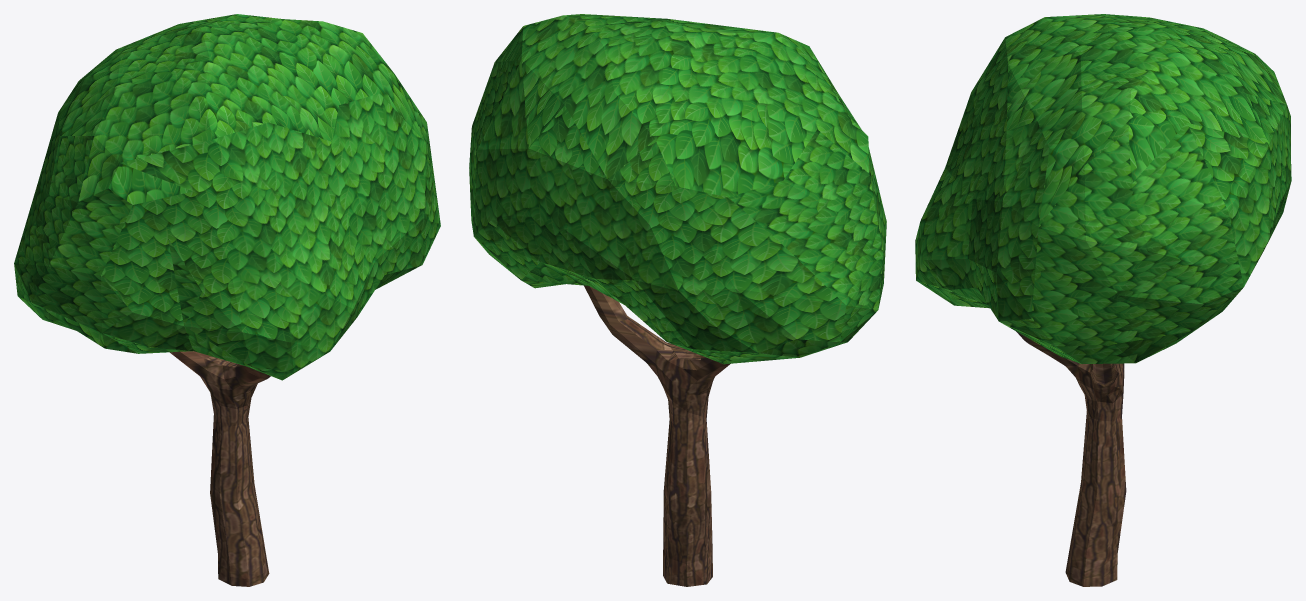
The model's file is Tree.FBX.
3 views of the same model, side by side, from view 1: azimuth 30°, elevation 25°; view 2: azimuth 150°, elevation 25°; view 3: azimuth 270°, elevation 25° (orthographic). The views are drawn at different scales.
Parts seen in each view (by area): view 1: Leaves, Trunk; view 2: Leaves, Trunk; view 3: Leaves, Trunk.
Part boxes in pixels (x1,y1,x2,y2): Leaves: (14,14,440,380); Trunk: (170,351,270,586); Leaves: (469,14,886,364); Trunk: (584,285,730,586); Leaves: (915,14,1291,363); Trunk: (1016,331,1126,586).
Size of the model in its own units: 9.26 by 12.48 by 7.75.
Materials: 2 (2 with a texture image).
